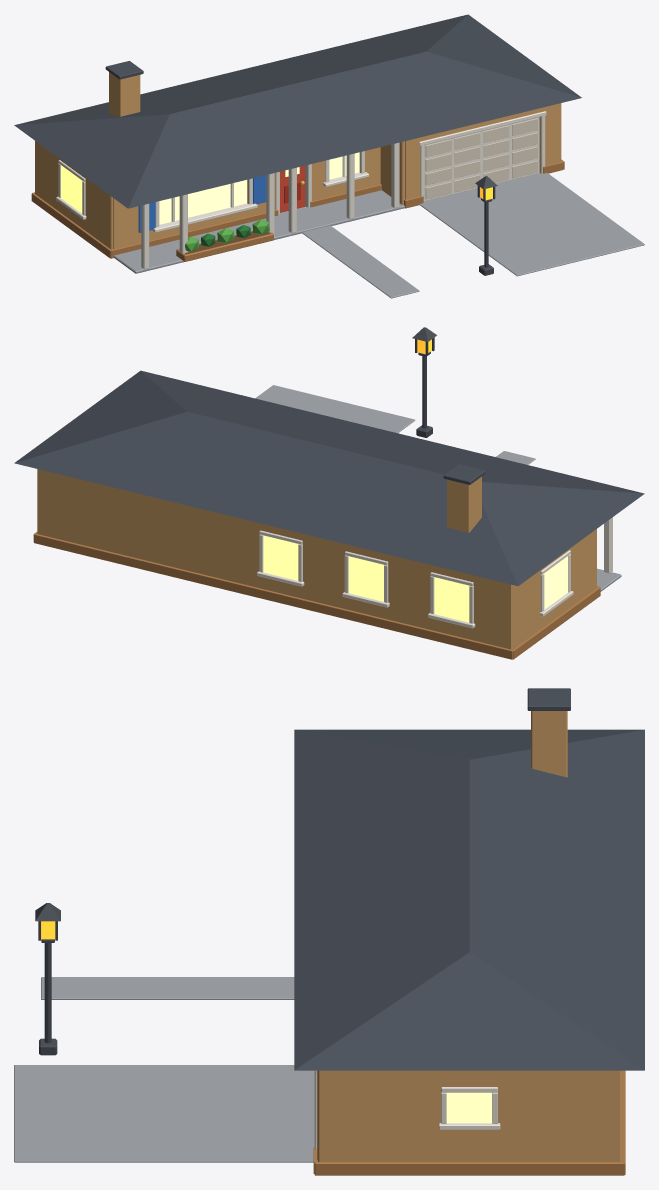
File: ranch-bungalow.glb
3 renders of one model, top to bottom at view 1: azimuth 30°, elevation 25°; view 2: azimuth 150°, elevation 25°; view 3: azimuth 270°, elevation 25°, orthographic. The views are drawn at different scales.
Parts seen in each view (by area): view 1: Roof, Driveway, Walkway_Slab, Wall_LivingFront, Wall_LeftEnd, FrontPath, Wall_GarageFront, GarageDoor, PictureWindow_Glass, Chimney, Plinth_Front_L, Wall_GarageLeft (+15 smaller); view 2: Roof, Wall_Back, Plinth_Back, Wall_LeftEnd, Driveway, Chimney, BackWindow0_Glass, BackWindow1_Glass, BackWindow2_Glass, Plinth_Left, SideWindow_Glass, Chimney_Cap (+1 smaller); view 3: Roof, Driveway, Wall_GarageRight, FrontPath, Plinth_Right, Chimney, GarageSideWindow_Glass, Chimney_Cap, Lamp_Pole.
Part boxes in pixels (bbox=[...]): Roof: bbox=[14, 14, 581, 208]; Driveway: bbox=[419, 173, 644, 276]; Walkway_Slab: bbox=[113, 190, 404, 273]; Wall_LivingFront: bbox=[113, 147, 380, 248]; Wall_LeftEnd: bbox=[35, 141, 113, 249]; FrontPath: bbox=[302, 225, 419, 298]; Wall_GarageFront: bbox=[405, 103, 559, 199]; GarageDoor: bbox=[424, 117, 539, 200]; PictureWindow_Glass: bbox=[159, 180, 247, 224]; Chimney: bbox=[109, 72, 140, 116]; Plinth_Front_L: bbox=[110, 209, 278, 258]; Wall_GarageLeft: bbox=[380, 141, 404, 204]; Roof: bbox=[14, 370, 644, 586]; Wall_Back: bbox=[37, 469, 511, 649]; Plinth_Back: bbox=[34, 533, 512, 659]; Wall_LeftEnd: bbox=[512, 529, 596, 649]; Driveway: bbox=[255, 385, 415, 433]; Chimney: bbox=[447, 476, 481, 532]; BackWindow0_Glass: bbox=[434, 577, 469, 622]; BackWindow1_Glass: bbox=[348, 556, 383, 601]; BackWindow2_Glass: bbox=[263, 535, 298, 580]; Plinth_Left: bbox=[511, 586, 600, 659]; SideWindow_Glass: bbox=[544, 556, 568, 609]; Chimney_Cap: bbox=[443, 464, 485, 484]; Roof: bbox=[294, 729, 644, 1070]; Driveway: bbox=[14, 1065, 314, 1162]; Wall_GarageRight: bbox=[318, 1070, 620, 1161]; FrontPath: bbox=[41, 977, 294, 999]; Plinth_Right: bbox=[314, 1162, 624, 1175]; Chimney: bbox=[531, 711, 567, 777]; GarageSideWindow_Glass: bbox=[446, 1092, 492, 1123]; Chimney_Cap: bbox=[527, 688, 570, 710]; Lamp_Pole: bbox=[44, 943, 51, 1043].
Bounding box in the file's own units: 70.8 × 19.95 × 55.4.
